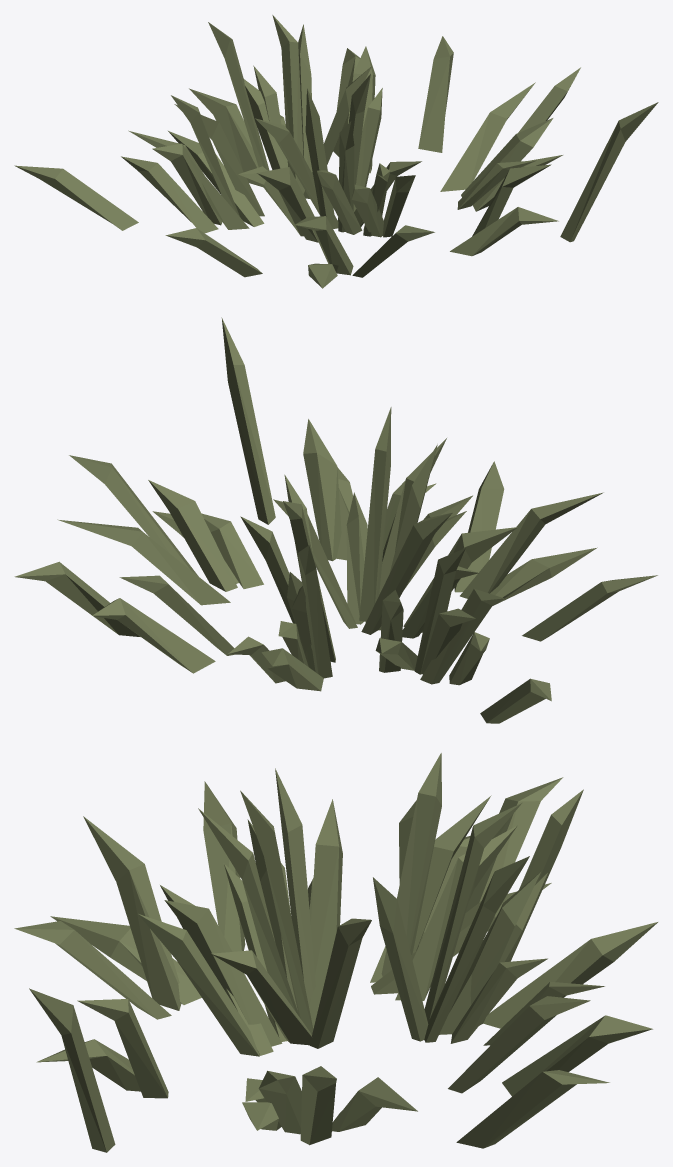
Rendered from city_SM_Env_Grass_Patch_02.gltf.
The picture shows the model from 3 angles, top to bottom: view 1: azimuth 30°, elevation 25°; view 2: azimuth 150°, elevation 25°; view 3: azimuth 270°, elevation 25°; orthographic projection. The views are drawn at different scales.
Visible parts, largest first — view 1: SM_Env_Grass_Patch_02; view 2: SM_Env_Grass_Patch_02; view 3: SM_Env_Grass_Patch_02.
Part boxes in pixels (x1,y1,x2,y2): SM_Env_Grass_Patch_02: (14, 15, 658, 288); SM_Env_Grass_Patch_02: (14, 317, 657, 723); SM_Env_Grass_Patch_02: (14, 753, 657, 1152).
Bounding box in the file's own units: 2.81 × 0.92 × 2.16.
1 material, 1 textured.
